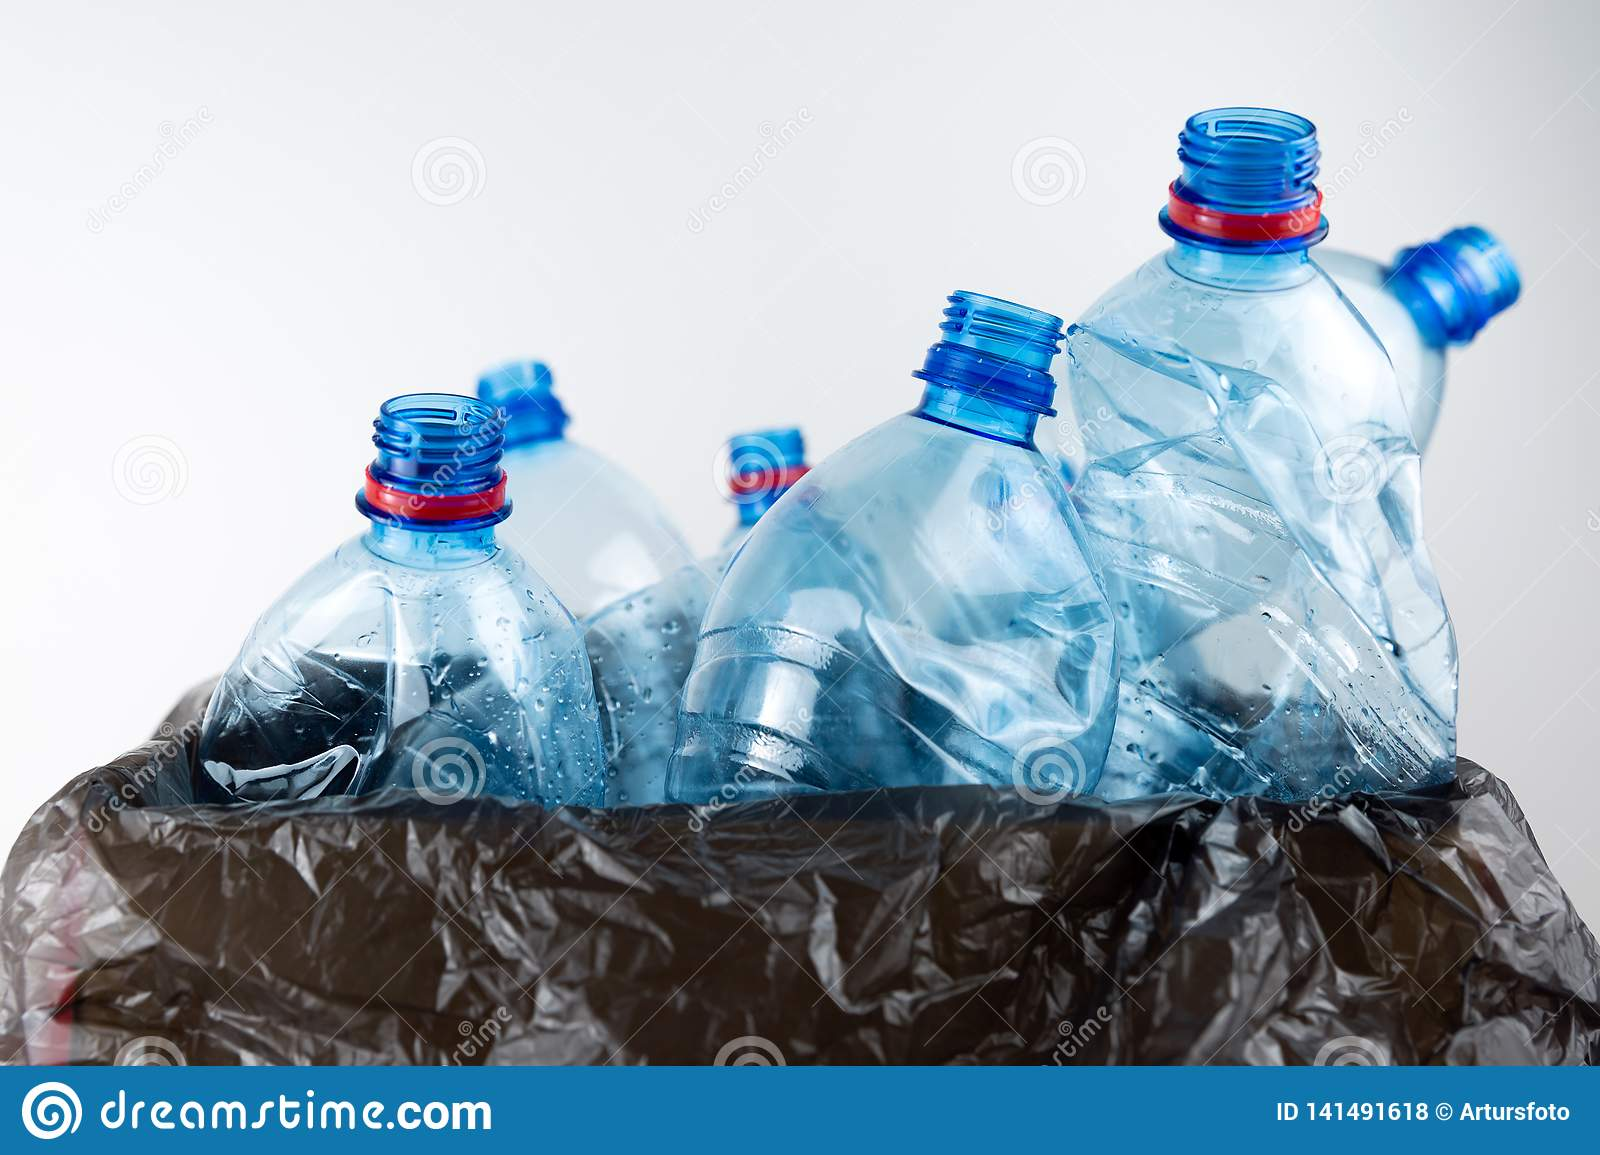plastic_bottle: (947, 17, 1481, 966), (114, 304, 794, 938), (743, 112, 1224, 940), (358, 197, 831, 928), (1089, 78, 1566, 659), (648, 260, 942, 876)
